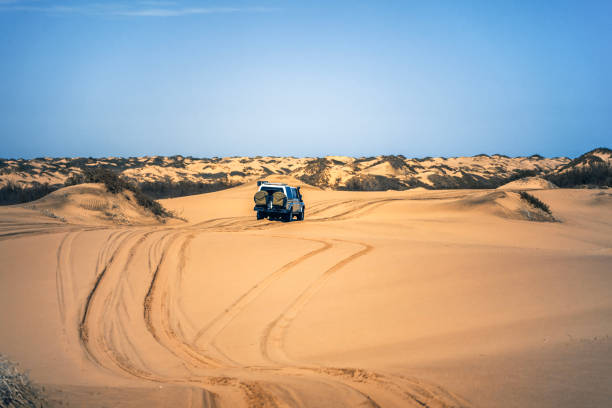vehicle_track: (79, 218, 467, 406), (260, 242, 372, 362)
